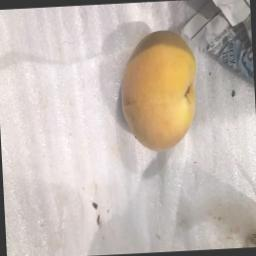Peach Ripe: (112, 24, 206, 156)
